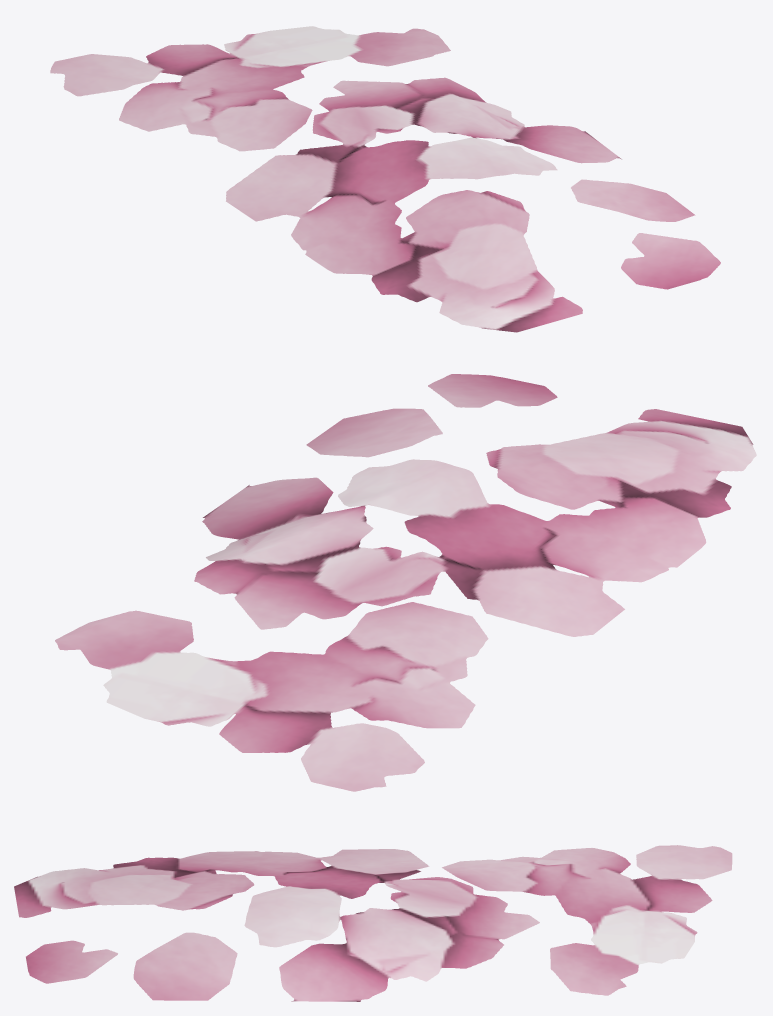
The model's file is SM_Env_CherryBlossom_Small_04.fbx.
3 renders of one model, top to bottom at view 1: azimuth 30°, elevation 25°; view 2: azimuth 150°, elevation 25°; view 3: azimuth 270°, elevation 25°, orthographic. The views are drawn at different scales.
Visible parts, largest first — view 1: SM_Env_CherryBlossom_Small_04; view 2: SM_Env_CherryBlossom_Small_04; view 3: SM_Env_CherryBlossom_Small_04.
Part boxes in pixels (box(x1,y1,x2,y2)): SM_Env_CherryBlossom_Small_04: box(50, 26, 720, 332); SM_Env_CherryBlossom_Small_04: box(55, 374, 756, 791); SM_Env_CherryBlossom_Small_04: box(14, 845, 732, 1001).
Size of the model in its own units: 40.81 by 4.34 by 80.83.
